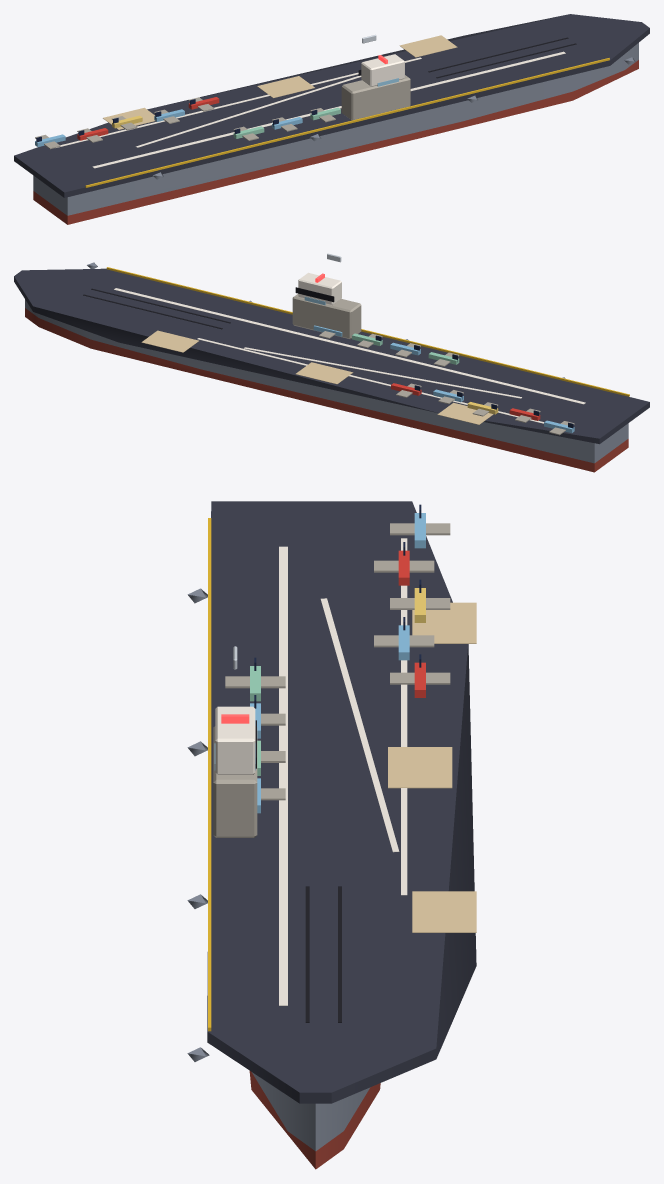
File: aircraft_carrier.glb
3 renders of one model, top to bottom at view 1: azimuth 30°, elevation 25°; view 2: azimuth 150°, elevation 25°; view 3: azimuth 270°, elevation 25°, orthographic. The views are drawn at different scales.
Parts seen in each view (by area): view 1: aircraft_carrier; view 2: aircraft_carrier; view 3: aircraft_carrier.
Part boxes in pixels (<box>): aircraft_carrier: <box>14,14,649,224</box>; aircraft_carrier: <box>14,253,649,472</box>; aircraft_carrier: <box>187,501,476,1169</box>.
Bounding box in the file's own units: 348 × 64.49 × 71.92.
1 material, 1 textured.
